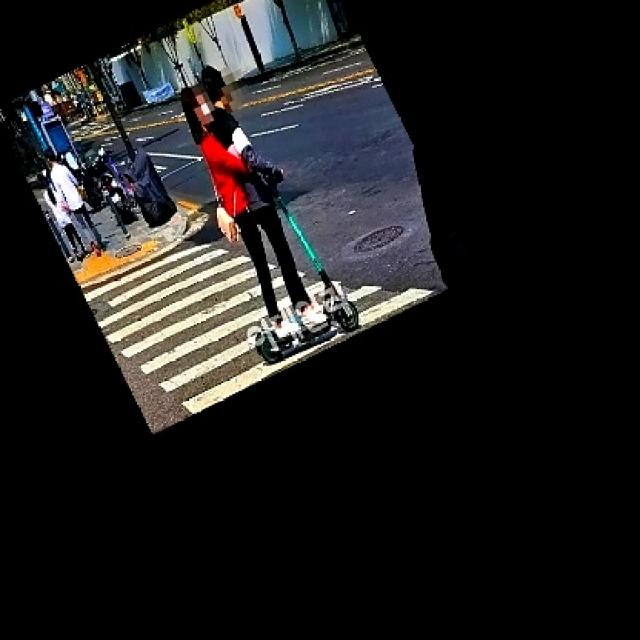bare_head: (177, 85, 218, 131), (203, 63, 237, 117)
human: (198, 63, 326, 330), (183, 87, 292, 339)
kickboard: (257, 289, 360, 372)
